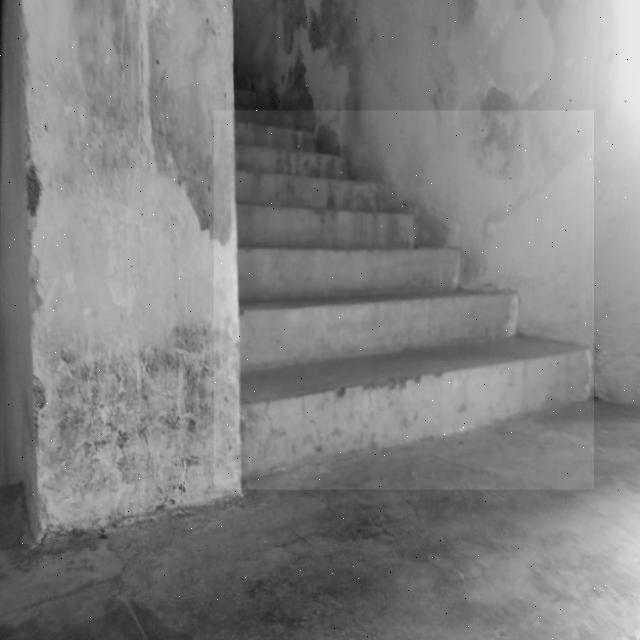stair: (214, 110, 594, 490)
